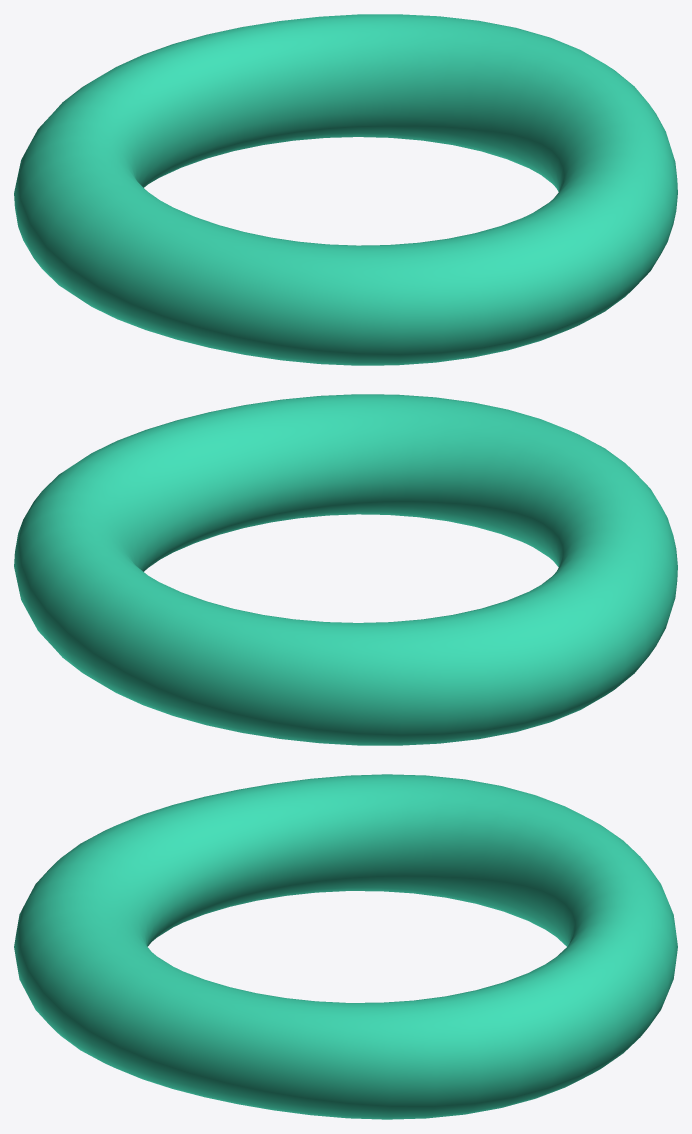
The model's file is STABLE_OPERATION.glb.
The picture shows the model from 3 angles, top to bottom: view 1: azimuth 30°, elevation 25°; view 2: azimuth 150°, elevation 25°; view 3: azimuth 270°, elevation 25°; orthographic projection.
Visible parts, largest first — view 1: ArcShape; view 2: ArcShape; view 3: ArcShape.
Part boxes in pixels (x1,y1,x2,y2): ArcShape: (14,14,677,365); ArcShape: (14,394,677,745); ArcShape: (14,774,677,1119).
Bounding box in the file's own units: 2.21 × 0.4213 × 2.2.
